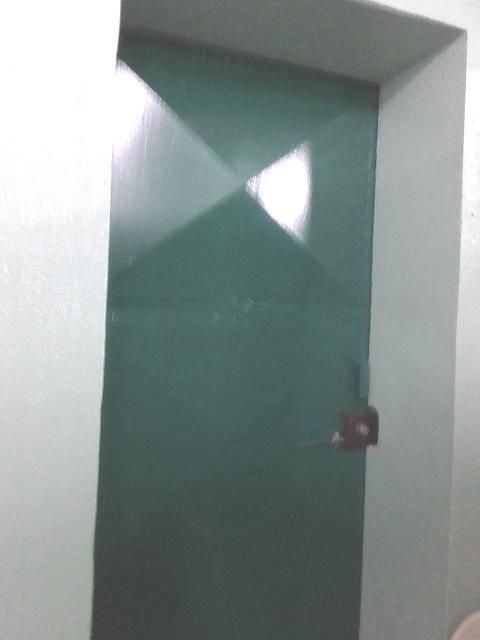closed_door: (92, 27, 380, 639)
